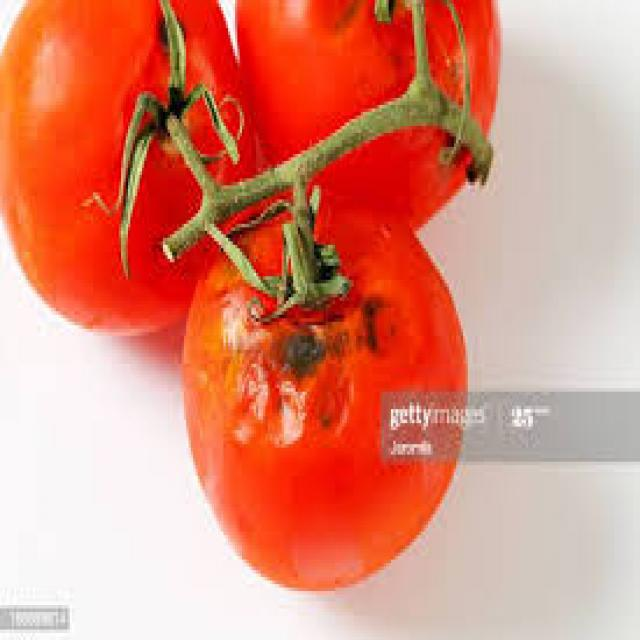organic waste: (177, 196, 465, 591), (0, 0, 251, 328), (233, 0, 500, 231)
